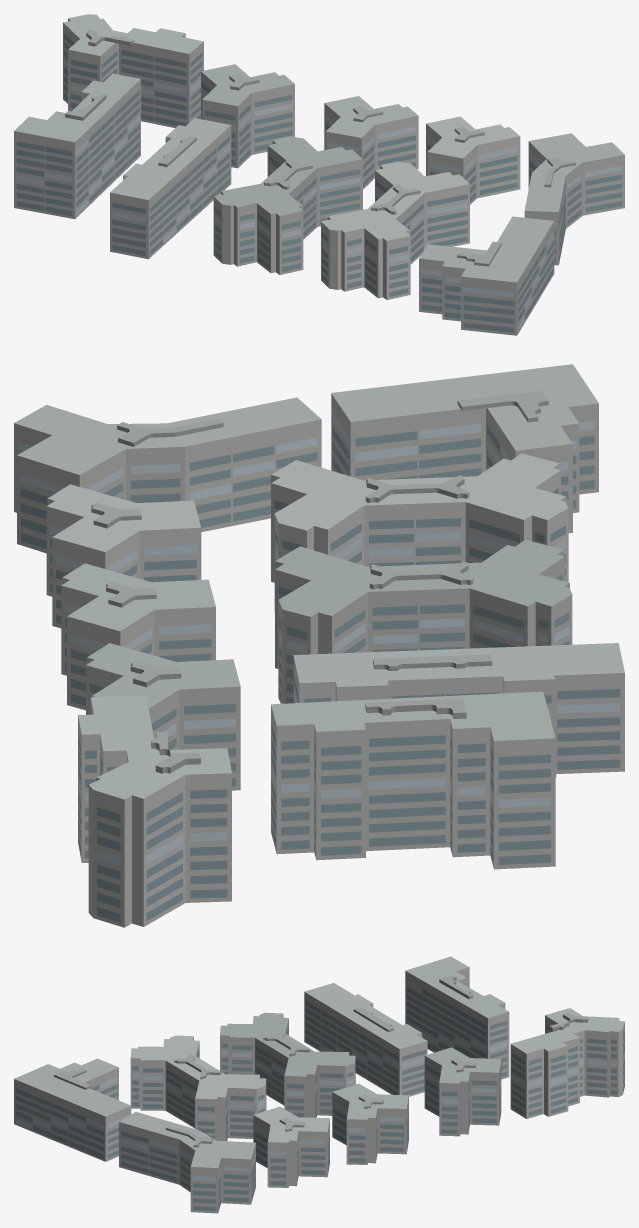
File: apt-a10027121.glb
3 renders of one model, top to bottom at view 1: azimuth 30°, elevation 25°; view 2: azimuth 150°, elevation 25°; view 3: azimuth 270°, elevation 25°, orthographic. The views are drawn at different scales.
Parts seen in each view (by area): view 1: apt-a10027121; view 2: apt-a10027121; view 3: apt-a10027121.
Boxes of the visible parts, left/top/right/bottom form: apt-a10027121: left=14, top=14, right=624, bottom=335; apt-a10027121: left=14, top=364, right=624, bottom=927; apt-a10027121: left=14, top=956, right=624, bottom=1213.
Size of the model in its own units: 156 by 26 by 210.
